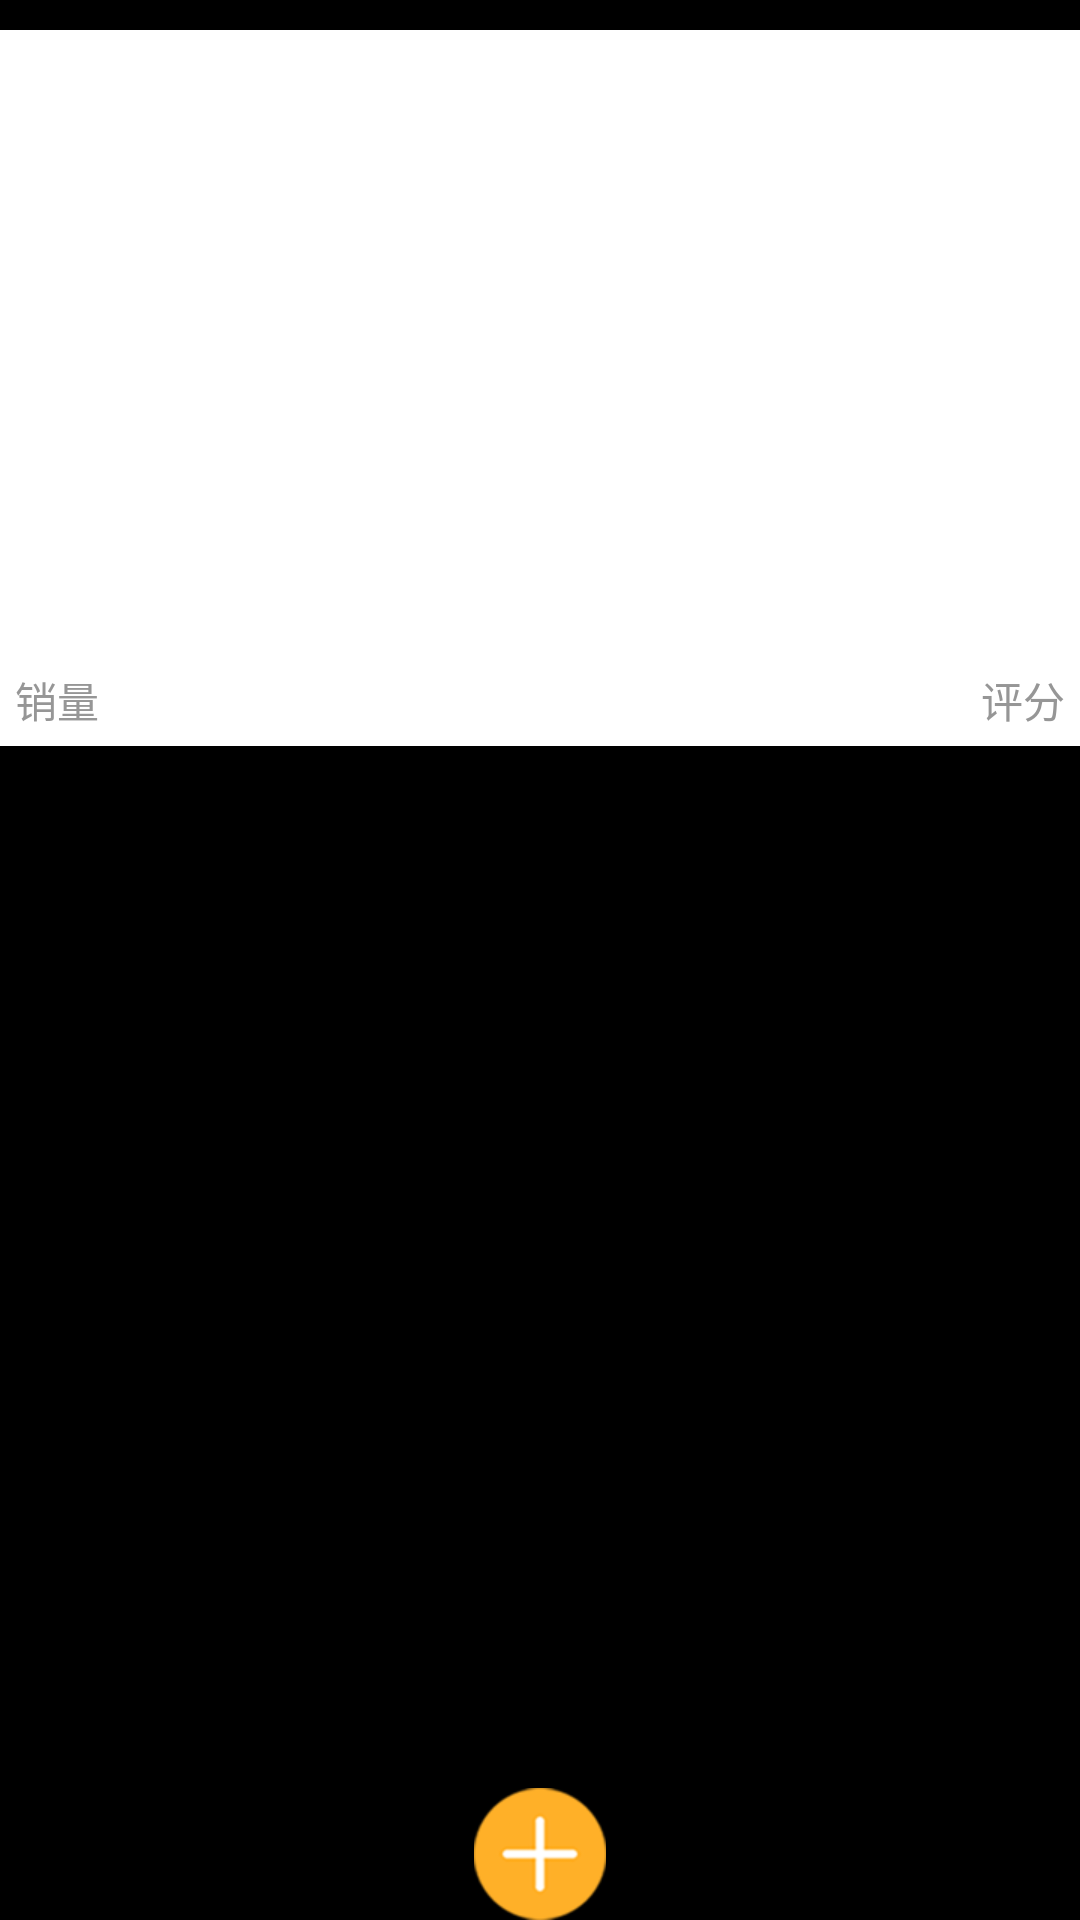

Icons on this 1080*1920 Android screen, each with the point to tap as point (x, y):
add to order: point (540, 1854)
